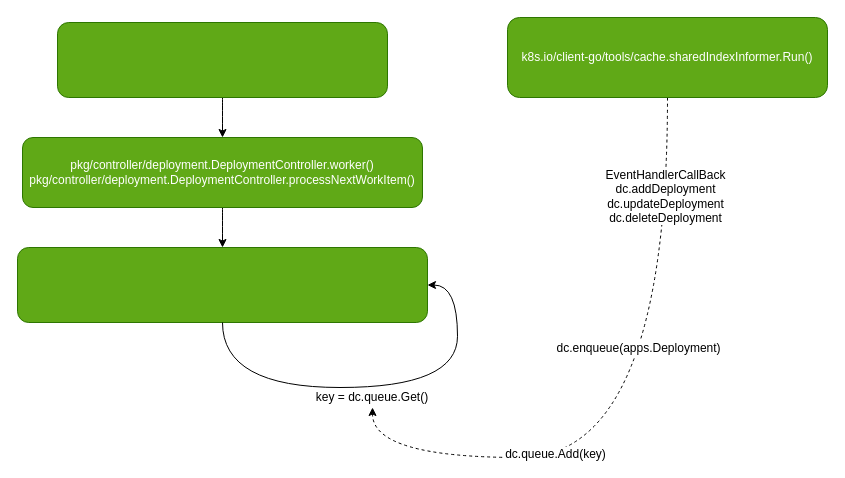
This 845x478 diagram has some shape labels left out. The shapes that lost their labels are listed below. From the top down, each one's centre as x and y in pixels, then its label:
At point (222, 60): "pkg/controller/deployment.DeploymentController.Run()".
At point (222, 284): "pkg/controller/deployment.DeploymentController.syncDeployment(key)".
